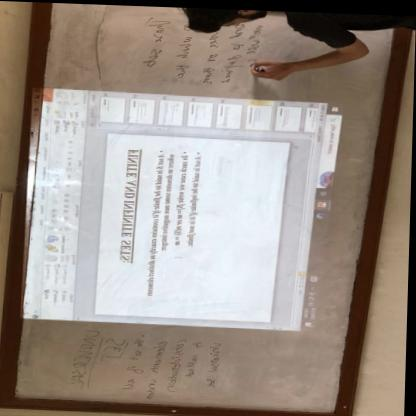Handwritten text: (122, 4, 177, 76), (61, 320, 104, 394), (157, 328, 194, 399), (138, 331, 172, 404), (114, 330, 152, 394), (167, 29, 200, 82), (212, 35, 244, 84), (182, 334, 209, 382), (97, 330, 131, 366), (205, 340, 226, 397), (194, 43, 221, 86)
Whiteboard: (11, 2, 402, 413)
